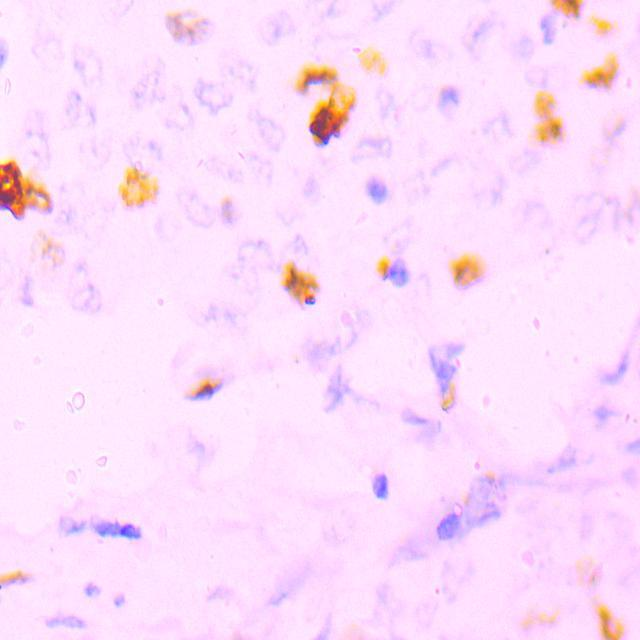Healthy cell: (573, 192, 640, 262), (303, 307, 371, 363), (192, 295, 257, 345), (312, 0, 389, 39), (23, 104, 58, 172), (192, 69, 240, 118), (434, 552, 478, 604), (235, 227, 269, 293), (366, 76, 406, 132), (243, 101, 287, 148), (503, 5, 541, 57), (468, 159, 508, 208), (66, 262, 102, 316), (460, 10, 496, 63), (255, 1, 292, 52), (174, 182, 210, 233), (128, 60, 164, 111), (113, 128, 167, 162), (322, 359, 357, 411), (26, 30, 70, 71), (410, 22, 449, 68), (233, 144, 275, 186), (423, 334, 467, 374), (222, 53, 264, 94), (356, 127, 396, 167), (77, 136, 111, 180), (436, 79, 465, 128), (59, 90, 97, 127), (359, 170, 395, 208), (72, 46, 105, 87), (299, 170, 323, 213), (514, 202, 544, 236), (369, 464, 390, 508), (164, 95, 190, 127)
cancer-cell-QiJm: (305, 80, 363, 156), (586, 584, 640, 640), (65, 182, 112, 242), (176, 365, 232, 407), (576, 42, 620, 95), (511, 599, 566, 640), (0, 153, 28, 232), (116, 162, 162, 210), (280, 260, 323, 310), (446, 245, 485, 292), (287, 60, 338, 95), (532, 103, 570, 149), (166, 7, 213, 44), (596, 106, 628, 158), (32, 229, 72, 269), (566, 552, 610, 588), (0, 265, 40, 304), (330, 603, 372, 640), (14, 182, 62, 214), (0, 554, 35, 592), (437, 374, 467, 418), (353, 39, 389, 72), (589, 10, 623, 42), (529, 82, 558, 119), (546, 0, 586, 20), (473, 456, 497, 486), (369, 249, 395, 275), (450, 484, 474, 508), (217, 188, 234, 205)
